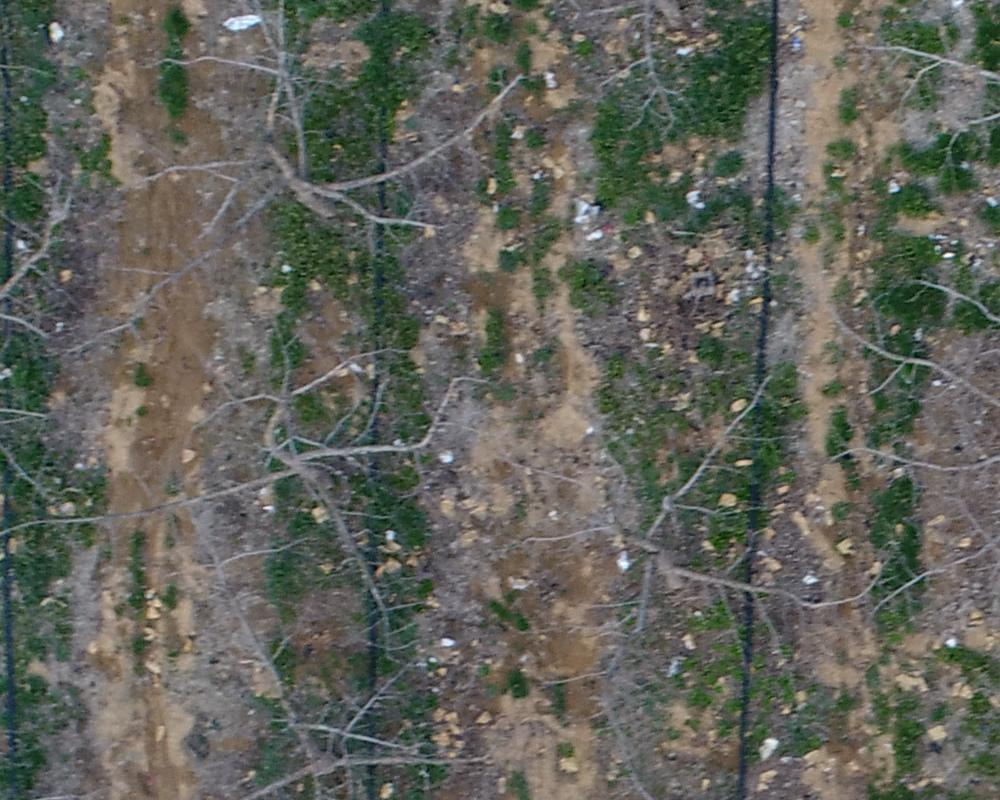apple: (10, 325, 497, 678), (114, 10, 528, 245), (177, 523, 528, 790), (527, 345, 820, 658), (814, 262, 990, 611), (828, 17, 990, 253)
